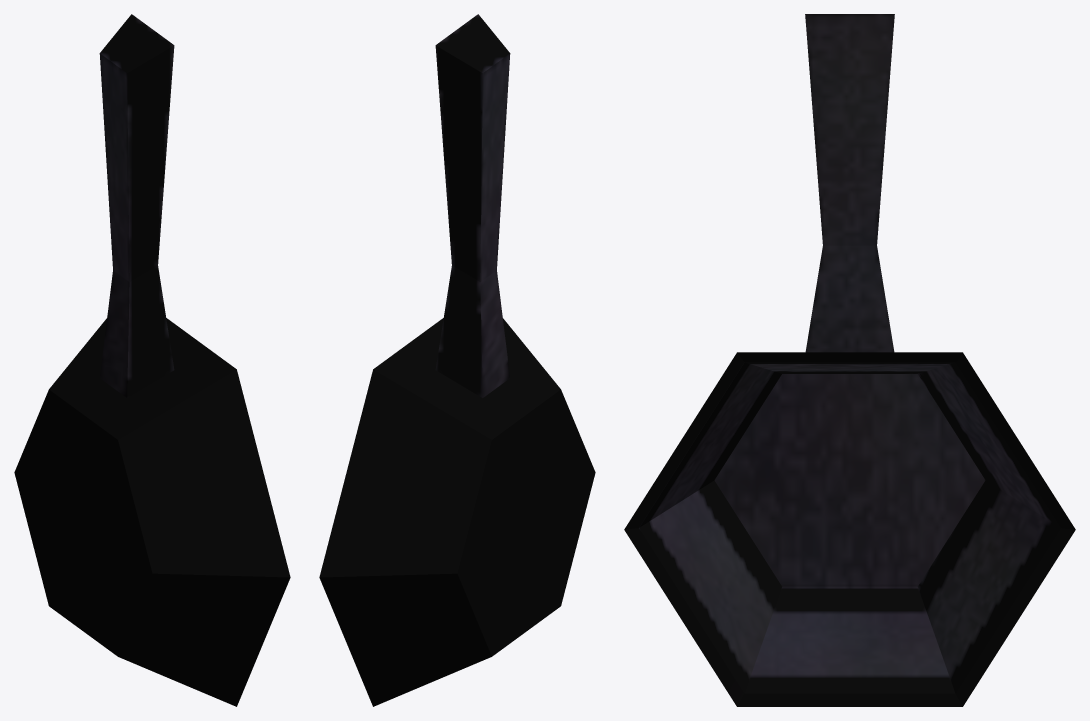
The model's file is 0.fbx_Ratskillet2.fbx.
3 renders of one model, left to right at view 1: azimuth 30°, elevation 25°; view 2: azimuth 150°, elevation 25°; view 3: azimuth 270°, elevation 25°, orthographic. The views are drawn at different scales.
Parts seen in each view (by area): view 1: Ratskillet2; view 2: Ratskillet2; view 3: Ratskillet2.
Boxes of the visible parts, box(x1,y1,x2,y2) form: Ratskillet2: box(14, 14, 290, 706); Ratskillet2: box(319, 14, 595, 706); Ratskillet2: box(624, 14, 1075, 706).
Bounding box in the file's own units: 22.67 × 140 × 84.8.
